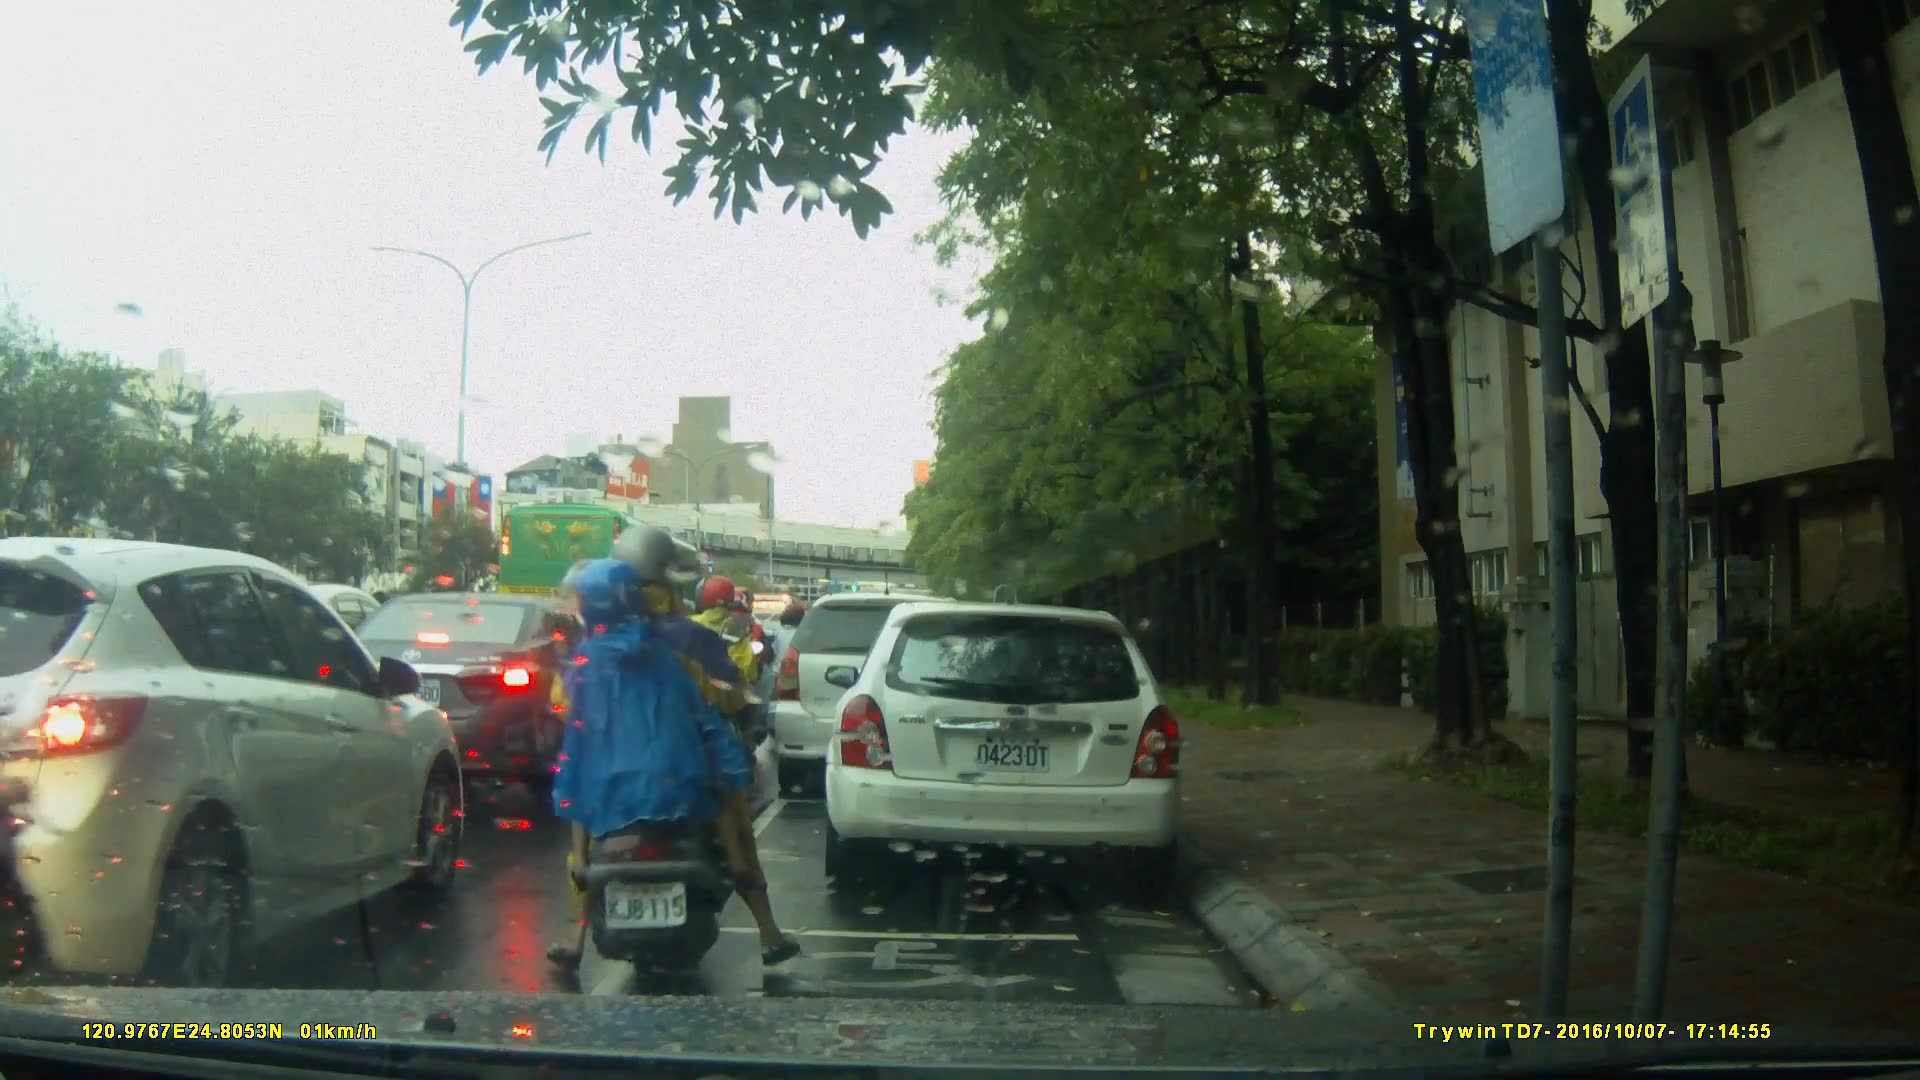rider: (518, 519, 811, 992), (681, 573, 766, 807), (717, 592, 776, 750), (773, 598, 818, 726)
vehicle: (5, 535, 470, 988), (831, 592, 1196, 897), (315, 589, 629, 776), (770, 590, 999, 804), (498, 503, 713, 636)
